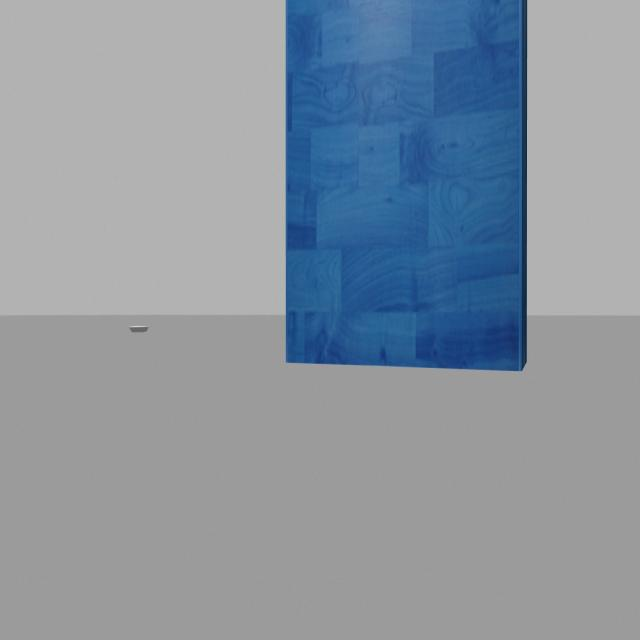bowl: (124, 318, 159, 337)
shelf: (257, 0, 549, 386)
